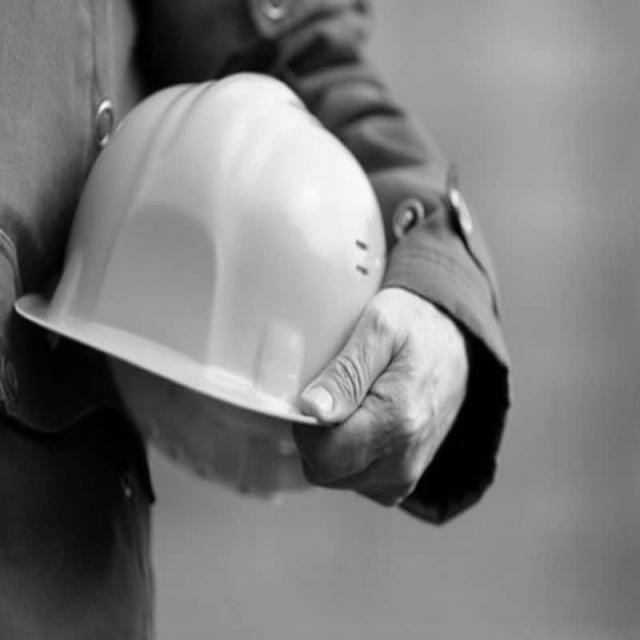safety_helmet: (16, 73, 388, 436)
